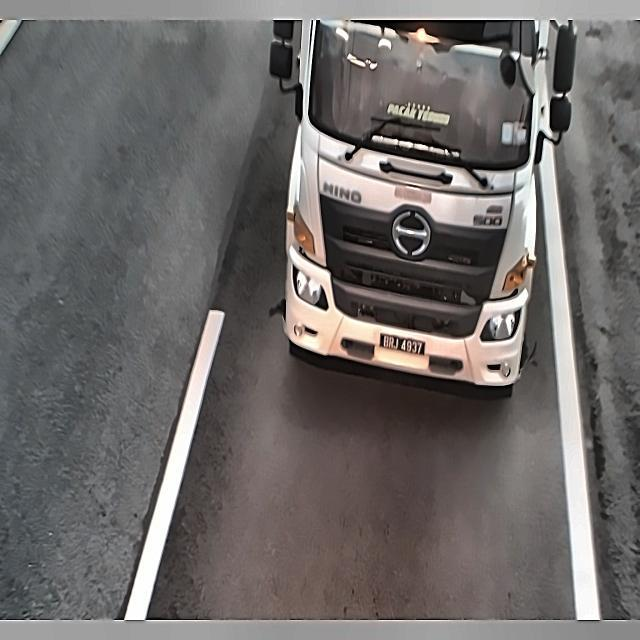car: (374, 328, 442, 371)
